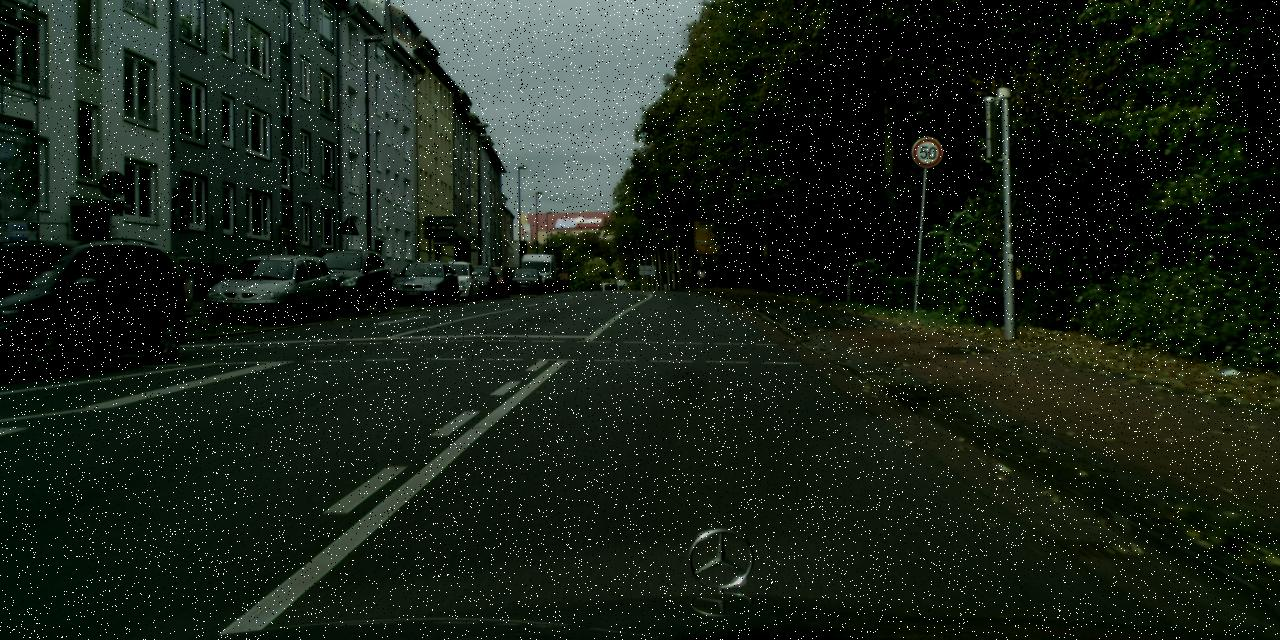ped: (704, 262, 714, 288), (696, 265, 706, 287)
